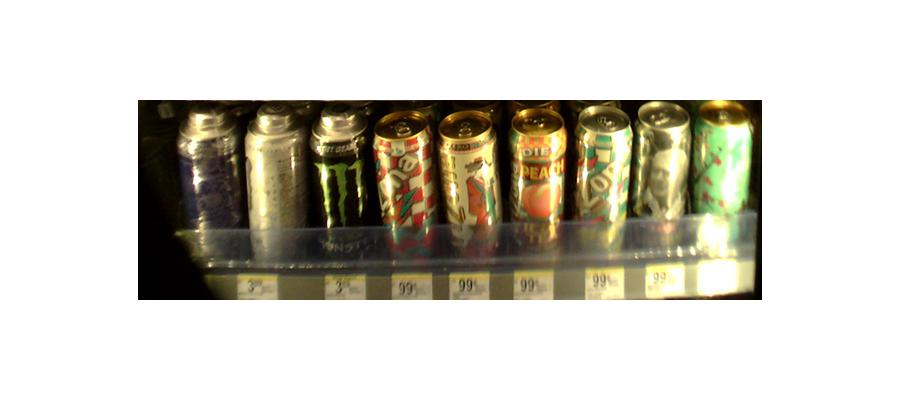bottle: (178, 108, 245, 266), (308, 106, 372, 258), (441, 114, 503, 263), (571, 106, 631, 259), (378, 110, 437, 265), (248, 111, 307, 264), (507, 108, 566, 257), (696, 99, 749, 257), (638, 104, 691, 258)
